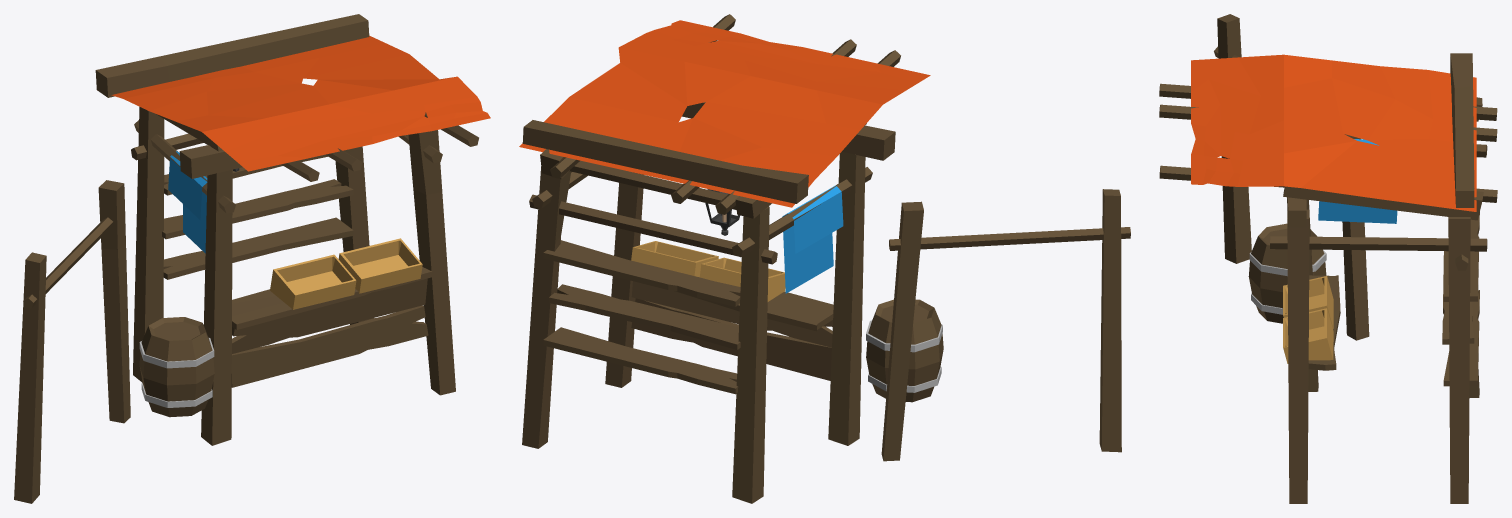
The model's file is shop2.fbx.
3 renders of one model, left to right at view 1: azimuth 30°, elevation 25°; view 2: azimuth 150°, elevation 25°; view 3: azimuth 270°, elevation 25°, orthographic. The views are drawn at different scales.
Visible parts, largest first — view 1: Plane, Cube.001, Cube.012, Cube.013, Cylinder.006, Cube.002, Cube.005, Cube.025, Cube.024, Cube.003, Cube.021, Cube.018 (+9 smaller); view 2: Plane, Cube.005, Cube.013, Cube.001, Cube, Cube.024, Cube.025, Cylinder.006, Plane.002, Cube.022, Cube.021, Cube.023 (+11 smaller); view 3: Plane, Cube.012, Cube, Cylinder.006, Cube.001, Cube.025, Cube.024, Cylinder.002, Cube.011, Cube.019, Plane.002, Cube.018 (+9 smaller).
Part boxes in pixels (left/top/right/bottom): Plane: left=111, top=35, right=490, bottom=171; Cube.001: left=95, top=14, right=369, bottom=97; Cube.012: left=408, top=130, right=455, bottom=395; Cube.013: left=201, top=169, right=232, bottom=445; Cylinder.006: left=139, top=317, right=214, bottom=417; Cube.002: left=231, top=305, right=428, bottom=387; Cube.005: left=133, top=106, right=164, bottom=382; Cube.025: left=14, top=252, right=46, bottom=503; Cube.024: left=98, top=180, right=130, bottom=423; Cube.003: left=232, top=278, right=427, bottom=353; Cube.021: left=163, top=217, right=353, bottom=279; Cube.018: left=270, top=254, right=356, bottom=309; Plane: left=519, top=20, right=930, bottom=207; Cube.005: left=732, top=206, right=769, bottom=503; Cube.013: left=828, top=152, right=865, bottom=445; Cube.001: left=522, top=120, right=808, bottom=203; Cube: left=522, top=166, right=570, bottom=448; Cube.024: left=881, top=201, right=923, bottom=461; Cube.025: left=1099, top=189, right=1121, bottom=452; Cylinder.006: left=866, top=299, right=943, bottom=402; Plane.002: left=782, top=185, right=843, bottom=293; Cube.022: left=549, top=284, right=740, bottom=349; Cube.021: left=543, top=327, right=738, bottom=394; Cube.023: left=543, top=240, right=740, bottom=306; Plane: left=1191, top=54, right=1476, bottom=211; Cube.012: left=1287, top=209, right=1309, bottom=503; Cube: left=1448, top=217, right=1470, bottom=503; Cylinder.006: left=1248, top=223, right=1326, bottom=323; Cube.001: left=1450, top=53, right=1474, bottom=207; Cube.025: left=1217, top=14, right=1251, bottom=263; Cube.024: left=1342, top=134, right=1369, bottom=340; Cylinder.002: left=1270, top=236, right=1487, bottom=251; Cube.011: left=1283, top=186, right=1483, bottom=220; Cube.019: left=1283, top=308, right=1333, bottom=363; Plane.002: left=1318, top=139, right=1397, bottom=223; Cube.018: left=1283, top=276, right=1333, bottom=328.
Bounding box in the file's own units: 1068 × 710 × 672.
